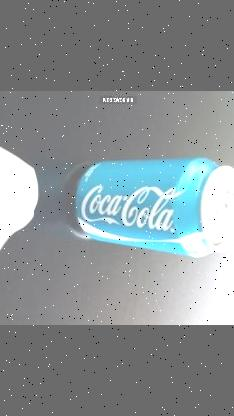Can: (71, 156, 234, 257)
